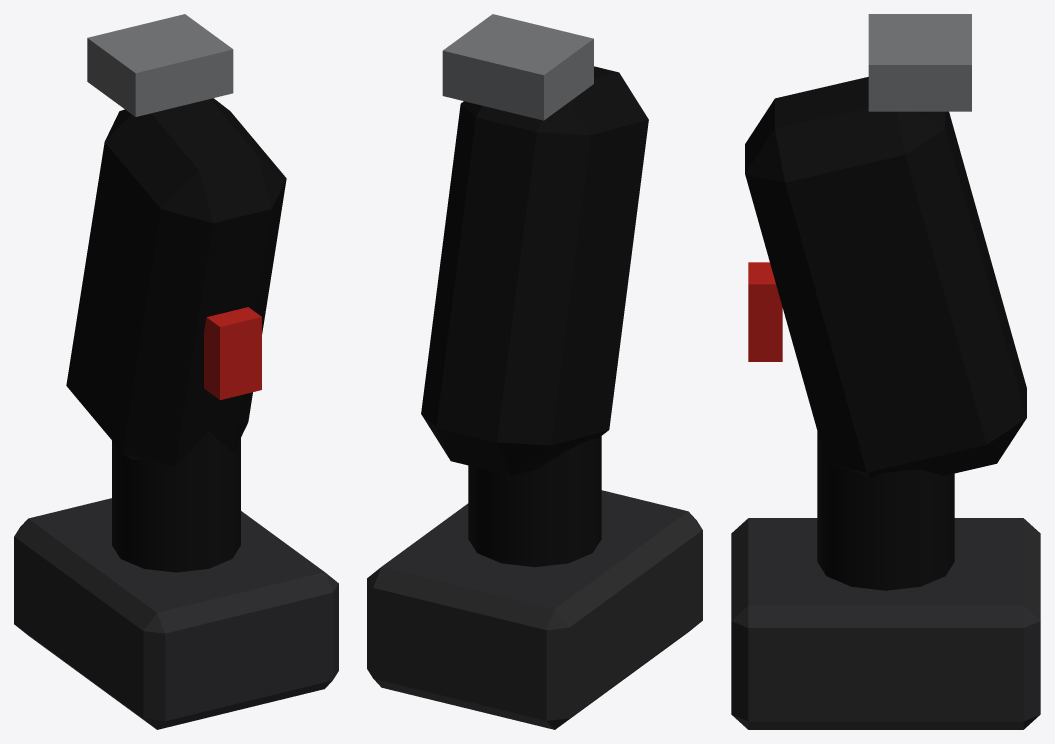
File: hand_controller.glb
3 views of the same model, side by side, from view 1: azimuth 30°, elevation 25°; view 2: azimuth 150°, elevation 25°; view 3: azimuth 270°, elevation 25° (orthographic). The views are drawn at different scales.
Parts seen in each view (by area): view 1: model; view 2: model; view 3: model.
Part boxes in pixels (left/top/right/bottom): model: left=14, top=14, right=338, bottom=729; model: left=367, top=14, right=702, bottom=729; model: left=731, top=14, right=1040, bottom=729.
Bounding box in the file's own units: 0.07 × 0.2075 × 0.09.
Materials: 1 (1 with a texture image).
